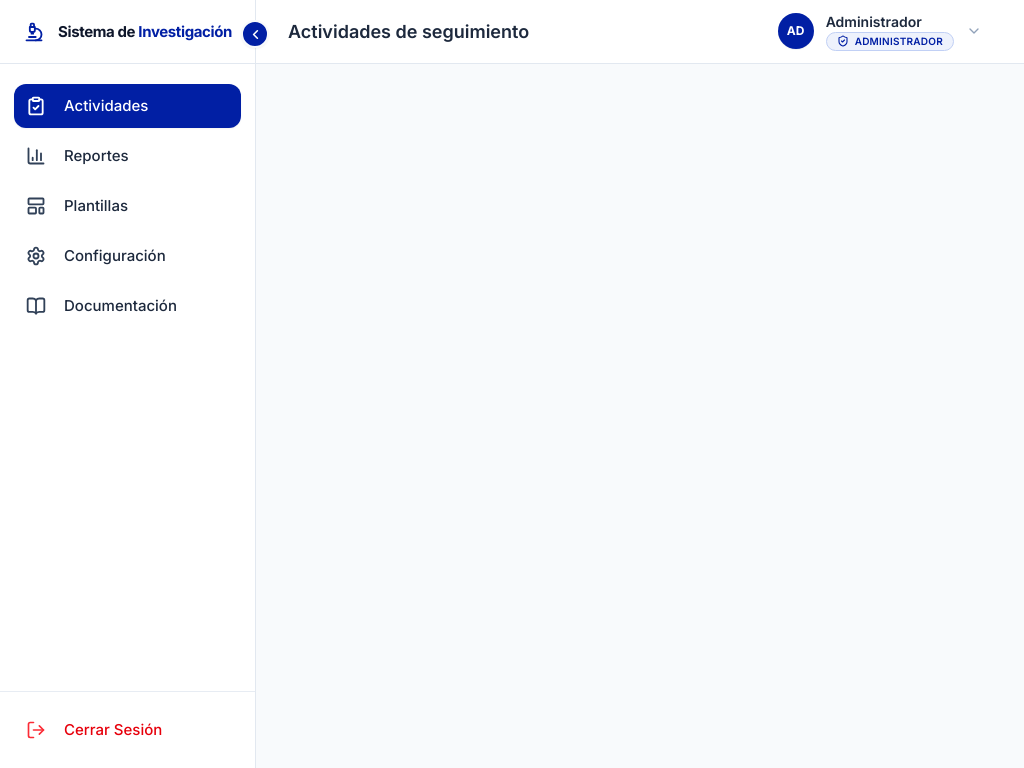
Scenario: DashboardLayout › solicita cerrar sesion desde TopBar y permite cancelar
Step 1. Click the button "AD Administrador ADMINISTRADOR" → [882, 31], box [772, 6, 992, 57]
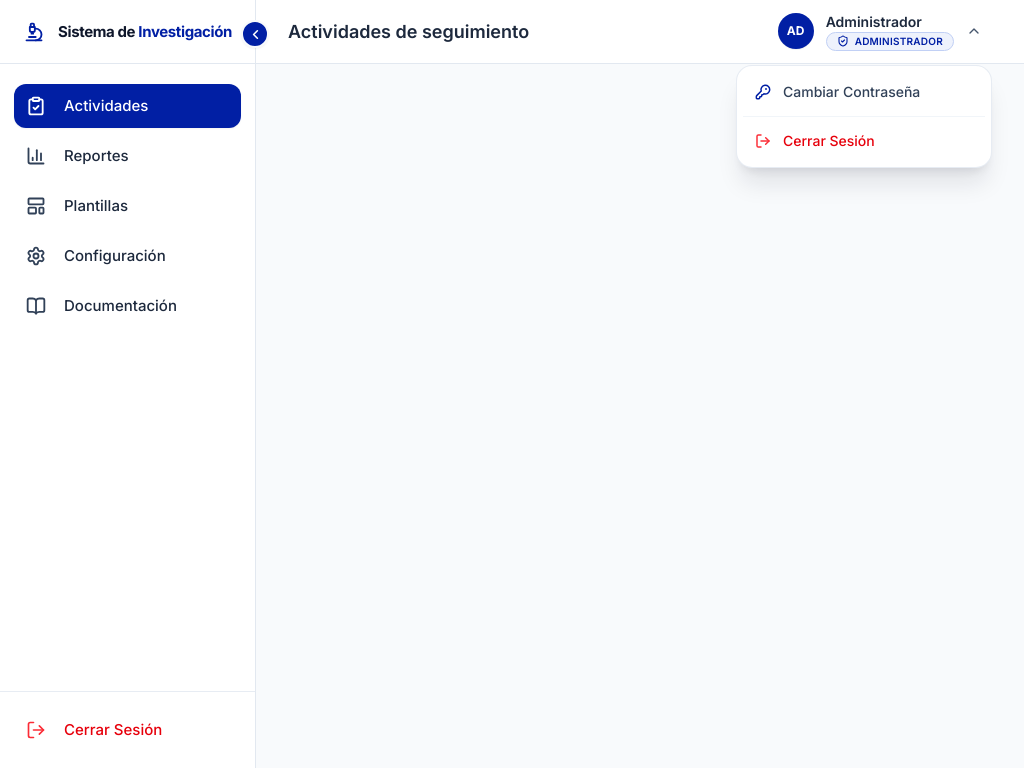
Step 2. Click the button "Cerrar Sesión" below "Actividades de seguimiento" → [864, 141], box [743, 121, 985, 161]
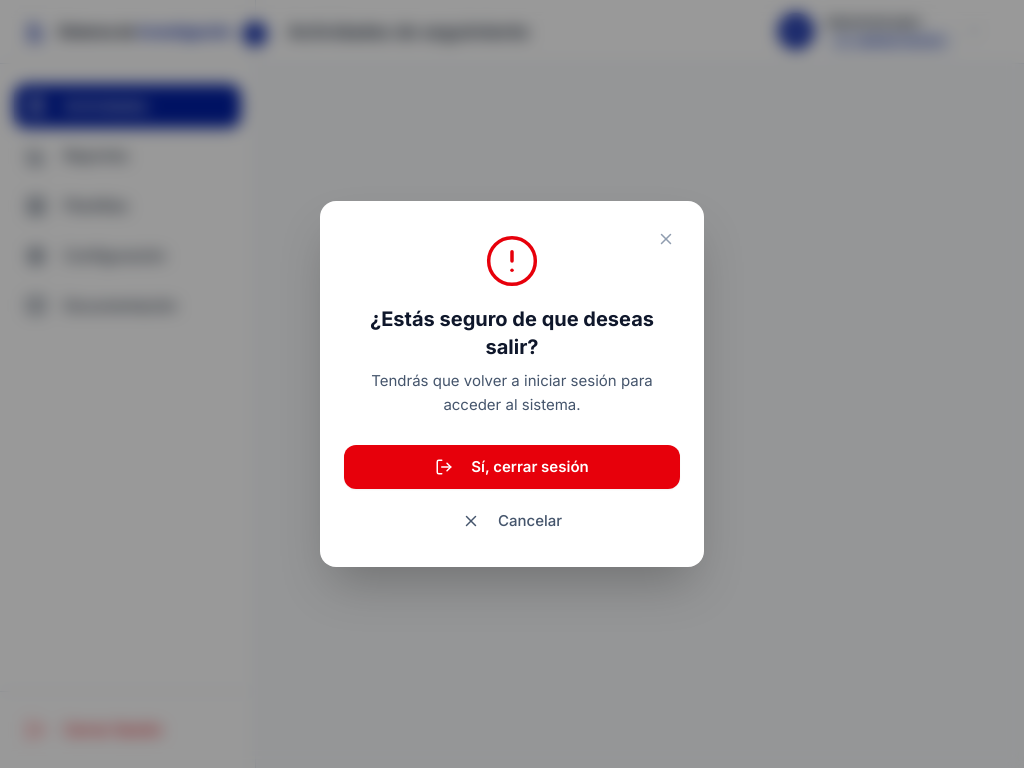
Expected: the heading "¿Estás seguro de que deseas salir?" is shown, [370, 307, 654, 359]
Step 3. Click the button "Cancelar" → [512, 521], box [344, 499, 680, 543]
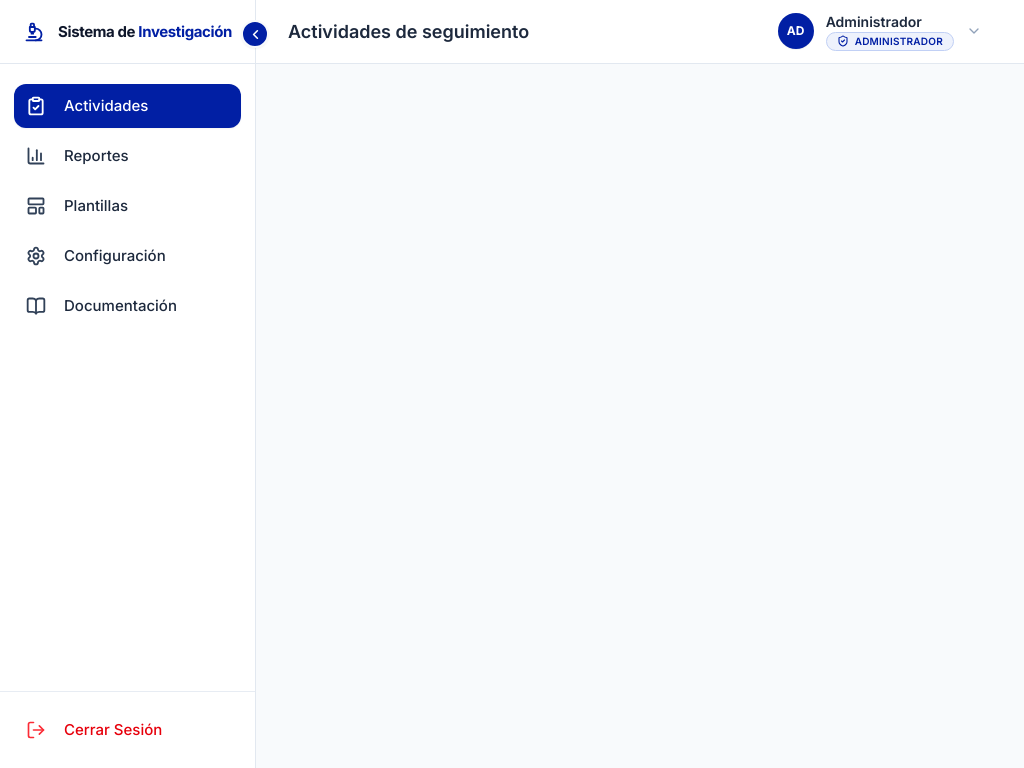
Expected: the heading "¿Estás seguro de que deseas salir?" is gone
